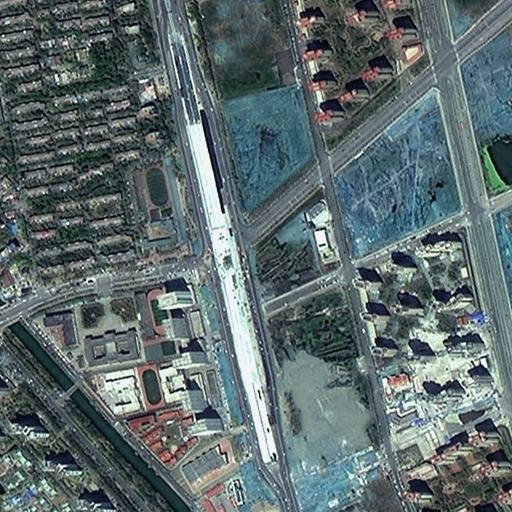school: (34, 282, 172, 371), (131, 149, 185, 255), (139, 359, 189, 412)
